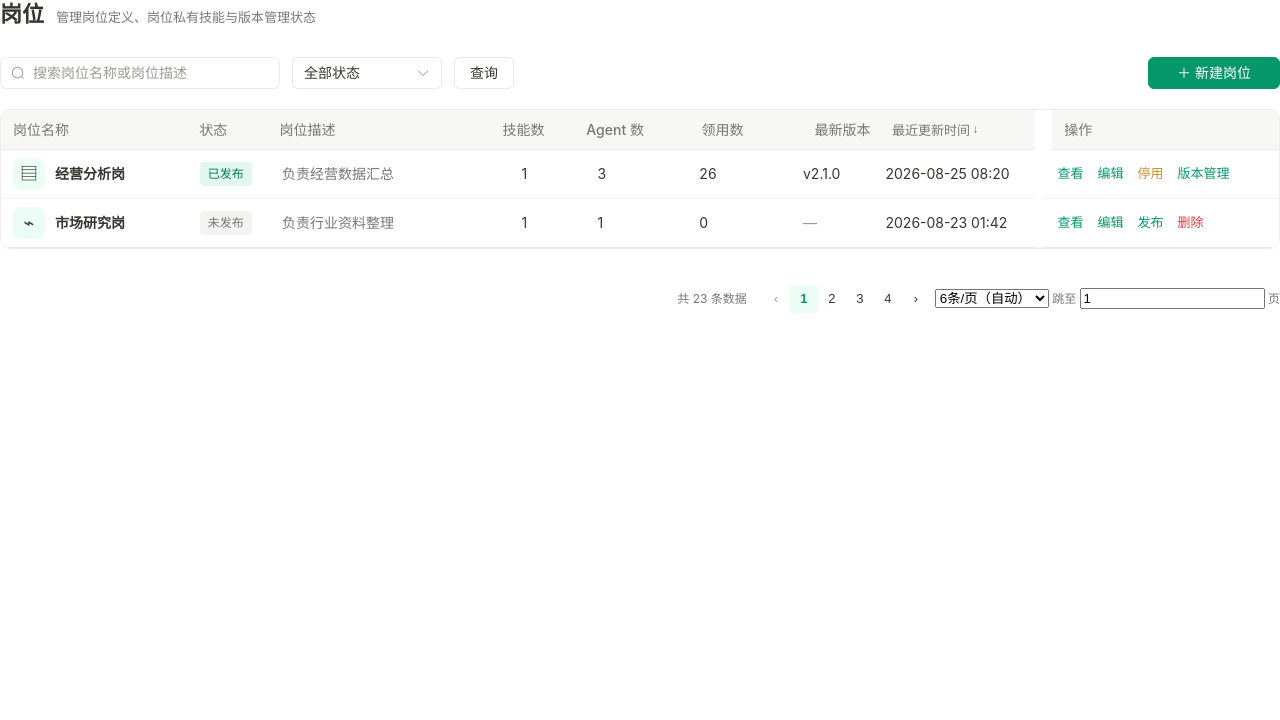
AdminPositions · 发布弹窗版本号获取失败可重试（J36） › getNextVersionLabel 拒绝 → 弹窗显「版本号获取失败」；点【重试】再次取号并显示版本号
The image size is (1280, 720).
Click the button "发布" at [1150, 223], box [1136,212,1164,234]
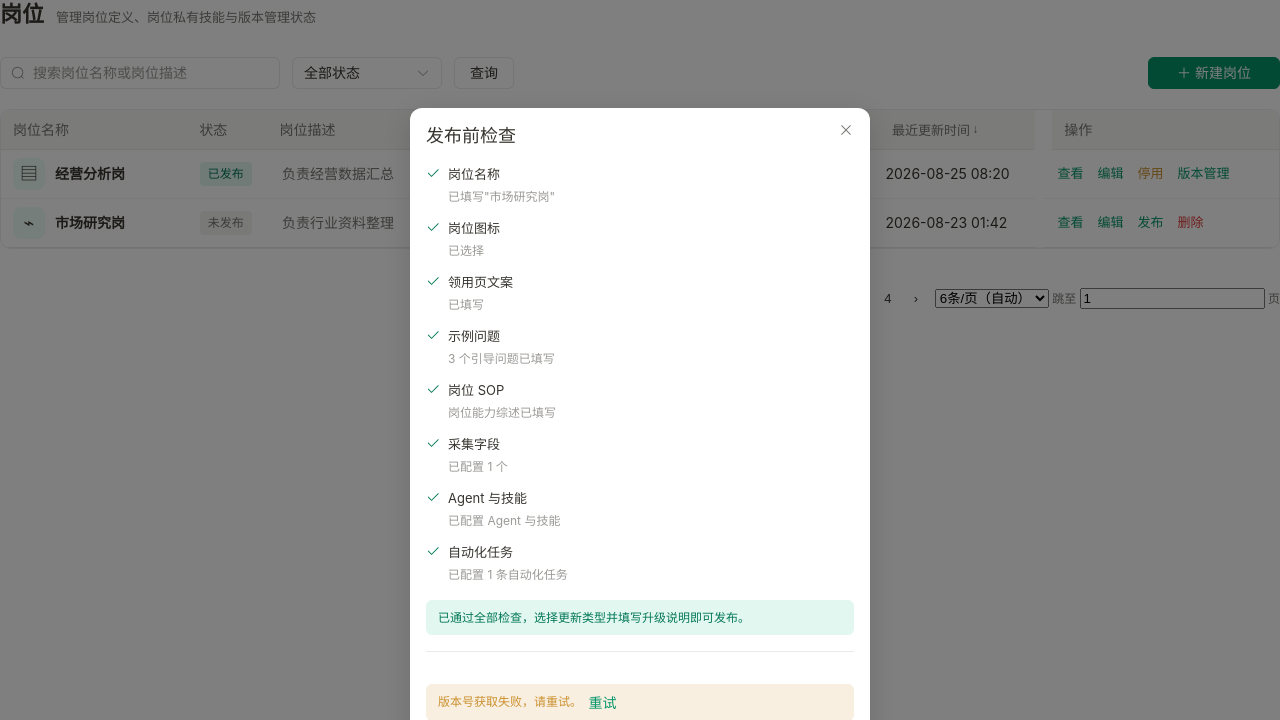
Expected: the text "v1.0.0" is not shown
Result: the element with class "load-failed" shows "版本号获取失败" at [438,694,585,710]
Click the button "重试" at [602, 703], box [585,693,619,713]
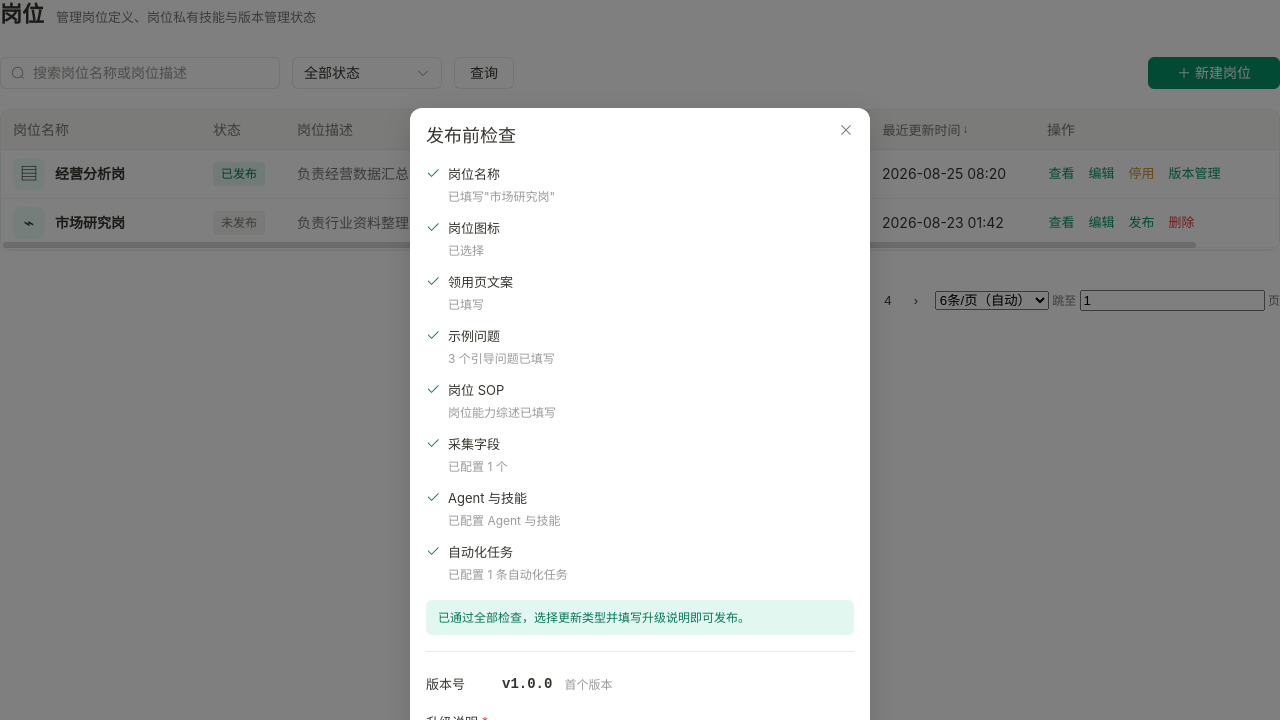
Result: the text "v1.0.0" is shown at [502,673,552,696]
